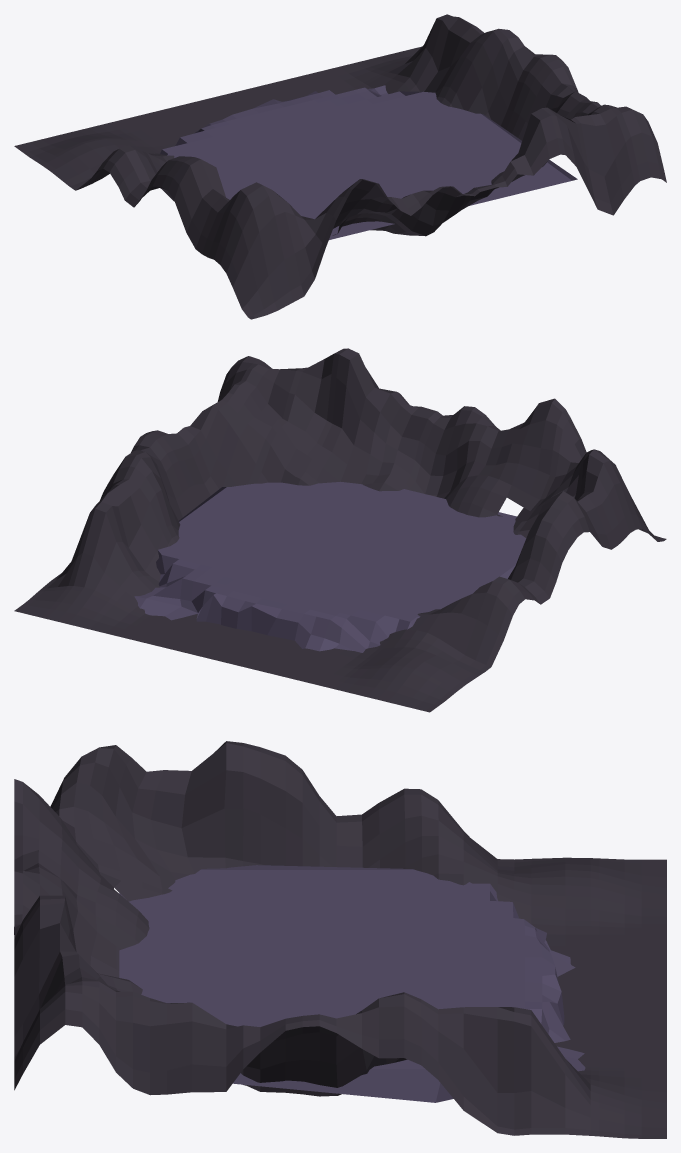
Rendered from terrain lol.fbx.
3 renders of one model, top to bottom at view 1: azimuth 30°, elevation 25°; view 2: azimuth 150°, elevation 25°; view 3: azimuth 270°, elevation 25°, orthographic. The views are drawn at different scales.
Visible parts, largest first — view 1: pPlane2, pPlane1; view 2: pPlane2, pPlane1; view 3: pPlane2, pPlane1.
Boxes of the visible parts, x1,y1,x2,y2 form: pPlane2: (14, 14, 666, 319); pPlane1: (160, 85, 577, 239); pPlane2: (14, 348, 666, 712); pPlane1: (134, 481, 526, 652); pPlane2: (14, 741, 666, 1138); pPlane1: (119, 865, 585, 1102).
Size of the model in its own units: 59.75 by 17.53 by 59.03.
